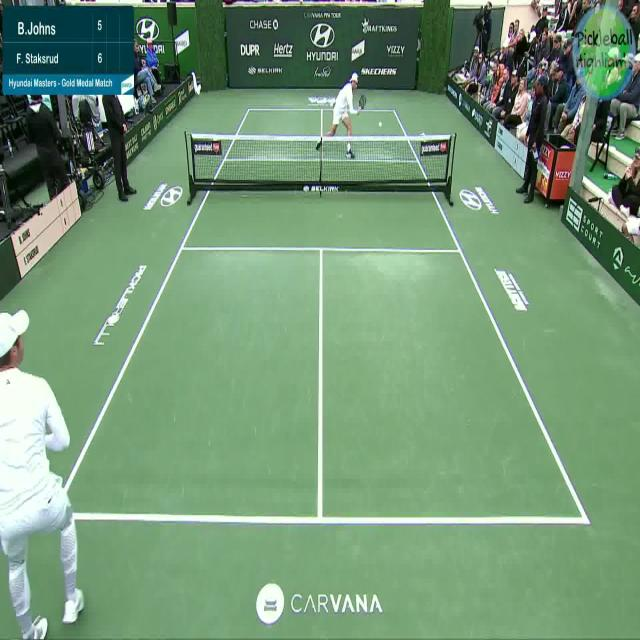ball: (378, 120, 384, 128)
